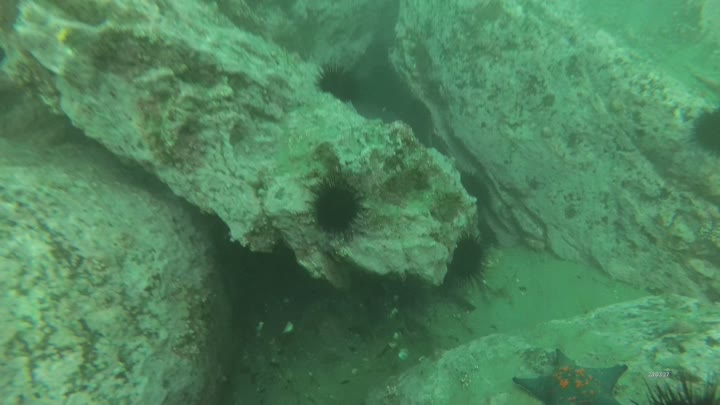echinus: (305, 173, 371, 240), (626, 369, 720, 405), (313, 54, 364, 105), (451, 228, 491, 291), (688, 103, 720, 160), (459, 167, 492, 214)
starfish: (511, 348, 632, 405)
